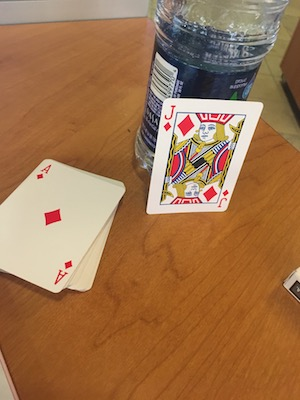AceOfDiamonds: (1, 147, 128, 307)
JackOfDiamonds: (142, 89, 266, 240)
